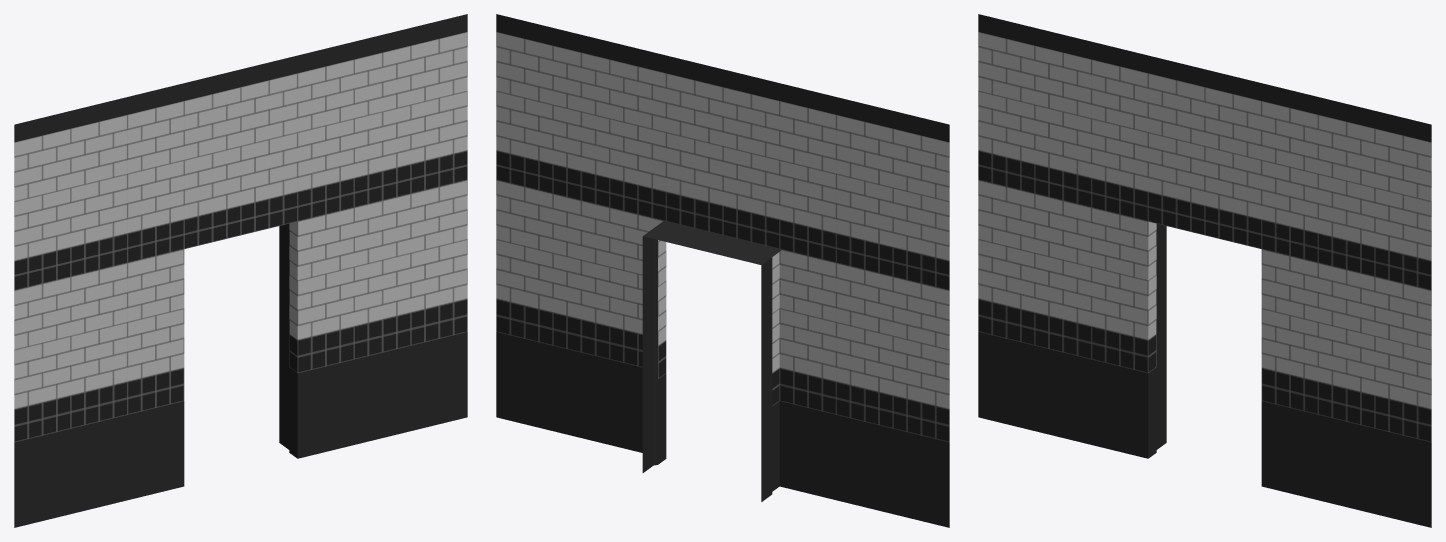
File: SW_ENV_StationTunnel_Wall_A_03.fbx
3 renders of one model, left to right at view 1: azimuth 30°, elevation 25°; view 2: azimuth 150°, elevation 25°; view 3: azimuth 330°, elevation 25°, orthographic.
Visible parts, largest first — view 1: SW_ENV_StationTunnel_Wall_A_03; view 2: SW_ENV_StationTunnel_Wall_A_03; view 3: SW_ENV_StationTunnel_Wall_A_03.
Boxes of the visible parts, x1=… form: SW_ENV_StationTunnel_Wall_A_03: x1=14, y1=14, x2=467, y2=527; SW_ENV_StationTunnel_Wall_A_03: x1=496, y1=14, x2=949, y2=527; SW_ENV_StationTunnel_Wall_A_03: x1=978, y1=14, x2=1431, y2=527.
Bounding box in the file's own units: 500 × 425 × 40.
